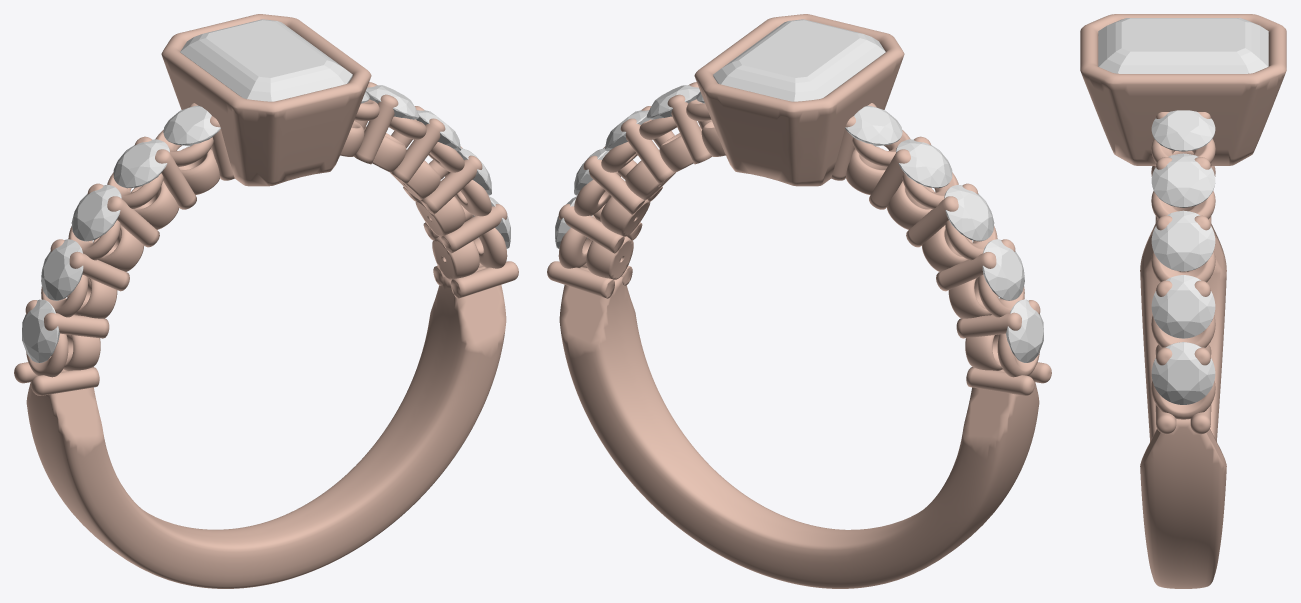
File: diamond-emerald-rosegold-bezelset-straighttaperedband-11stone.glb
3 renders of one model, left to right at view 1: azimuth 30°, elevation 25°; view 2: azimuth 150°, elevation 25°; view 3: azimuth 270°, elevation 25°, orthographic.
Parts seen in each view (by area): view 1: metal.002, stone, side.004, side.005, side.003, side, side.006, side.010; view 2: metal.002, stone, side.004, side.005, side.003, side, side.006, side.010; view 3: metal.002, stone, side.008, side.007, side.009, side.010, side.011.
Boxes of the visible parts, x1,y1,x2,y2 form: metal.002: [14, 14, 518, 588]; stone: [180, 19, 352, 101]; side.004: [71, 184, 121, 241]; side.005: [113, 139, 169, 188]; side.003: [41, 239, 83, 300]; side: [22, 299, 59, 362]; side.006: [163, 105, 220, 146]; side.010: [365, 85, 419, 119]; metal.002: [547, 14, 1051, 588]; stone: [713, 19, 885, 101]; side.004: [944, 184, 994, 241]; side.005: [896, 139, 952, 188]; side.003: [982, 239, 1024, 300]; side: [1006, 299, 1043, 362]; side.006: [845, 105, 902, 146]; side.010: [646, 85, 700, 119]; metal.002: [1080, 14, 1286, 588]; stone: [1098, 18, 1268, 73]; side.008: [1151, 275, 1215, 338]; side.007: [1151, 342, 1215, 404]; side.009: [1151, 210, 1215, 271]; side.010: [1151, 153, 1215, 207]; side.011: [1151, 110, 1215, 151].
Bounding box in the file's own units: 22 × 22.95 × 8.11.
